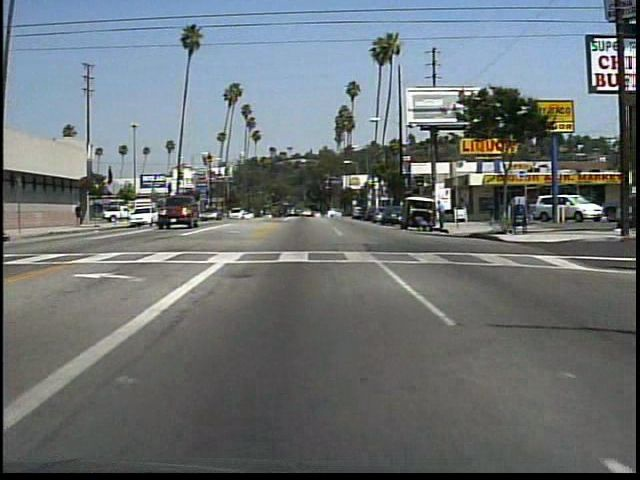person: (435, 197, 451, 233), (482, 192, 497, 221), (413, 215, 431, 233), (76, 199, 84, 228)
